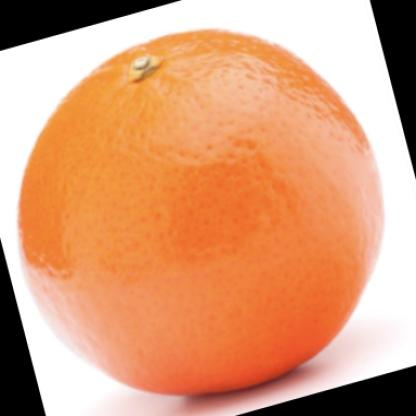fresh: (21, 29, 383, 396)
